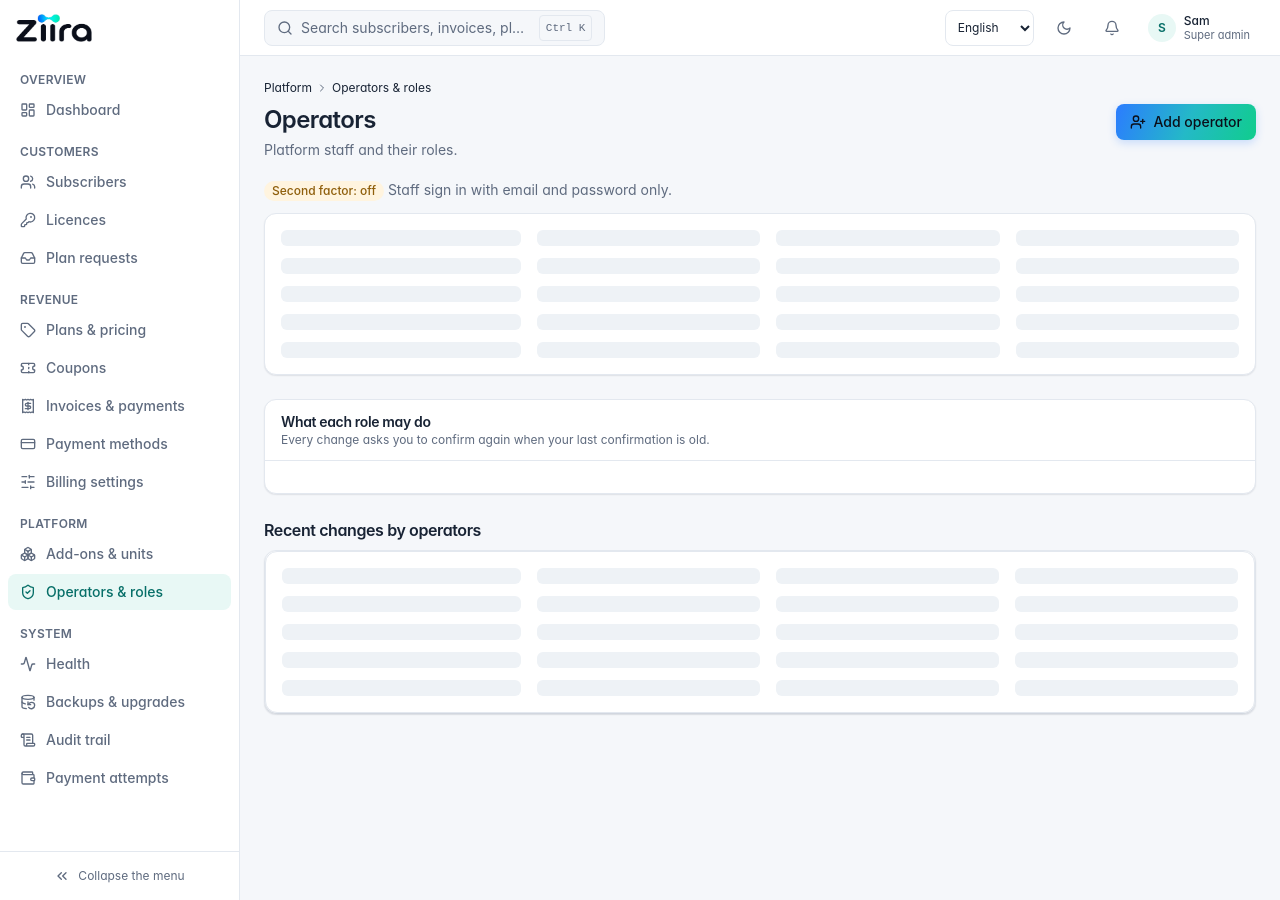
Test case: the operators page without a second factor › shows the temporary password of a new operator once, when none was typed
Click the button "Add operator".
click(1186, 122)  # box [1116, 104, 1256, 140]
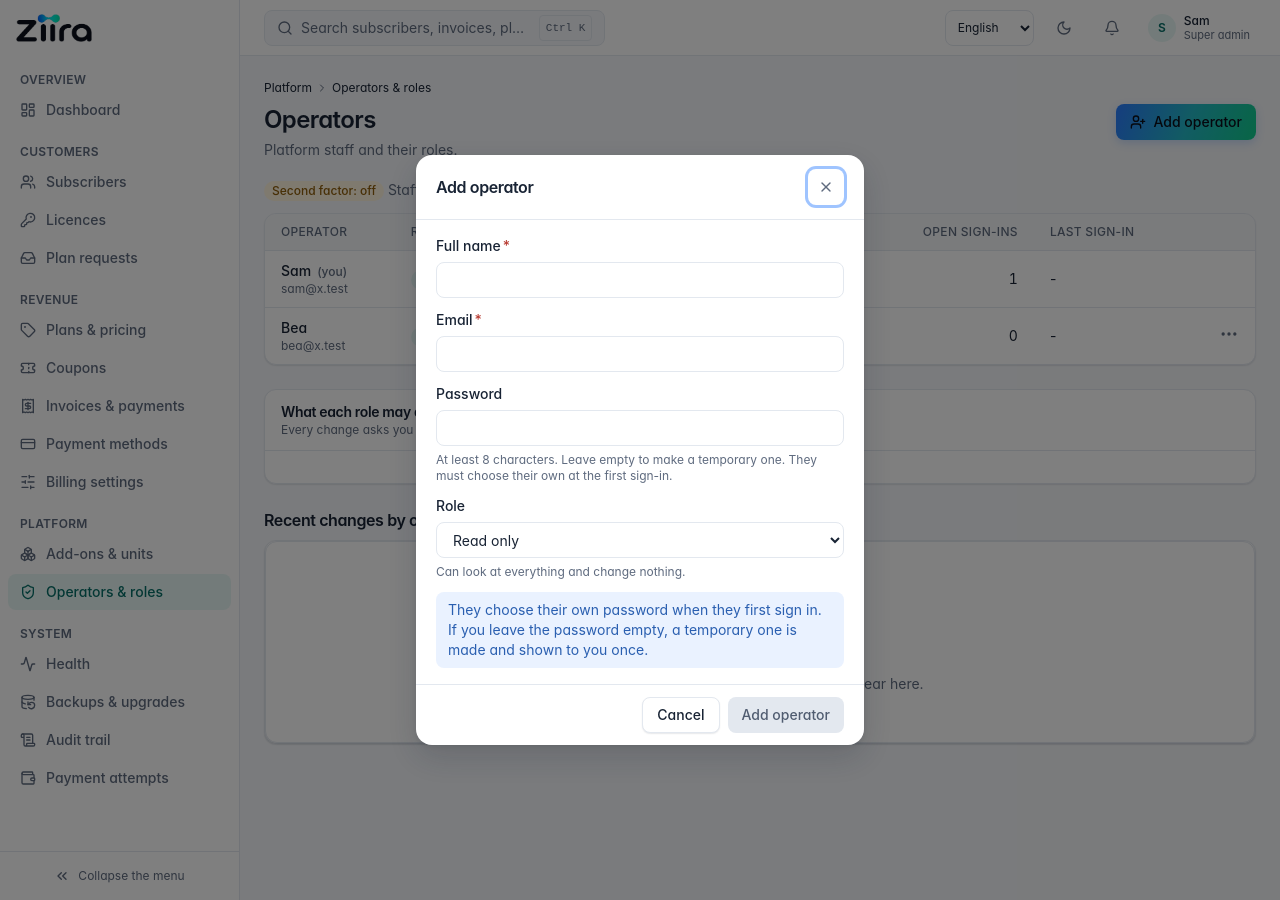
Type "Cy Dee" into the field labelled "Full name*".
click(640, 280); type("Cy Dee")  # box [436, 262, 844, 298]
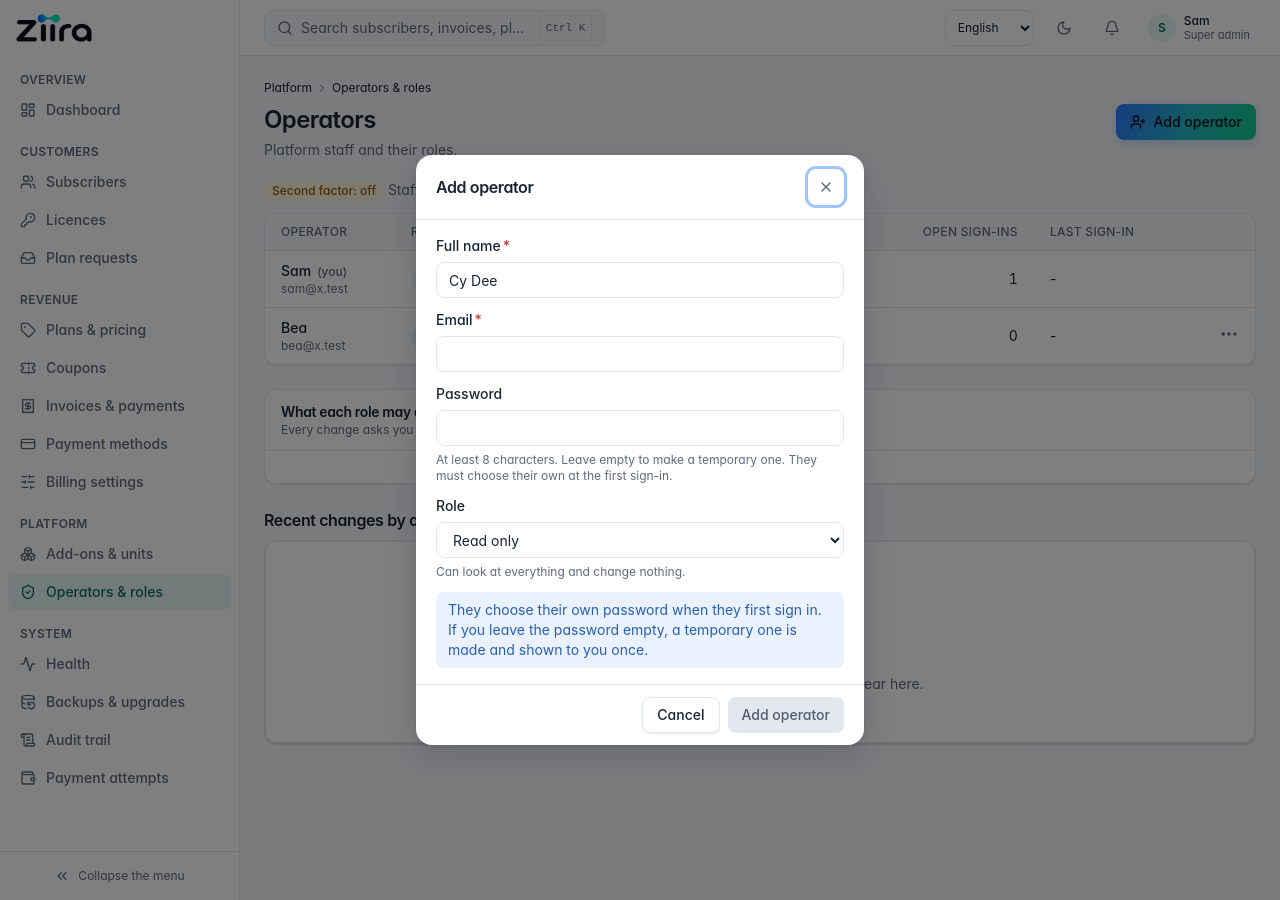
Type "cy@x.test" into the field labelled "Email*".
click(640, 354); type("cy@x.test")  # box [436, 336, 844, 372]
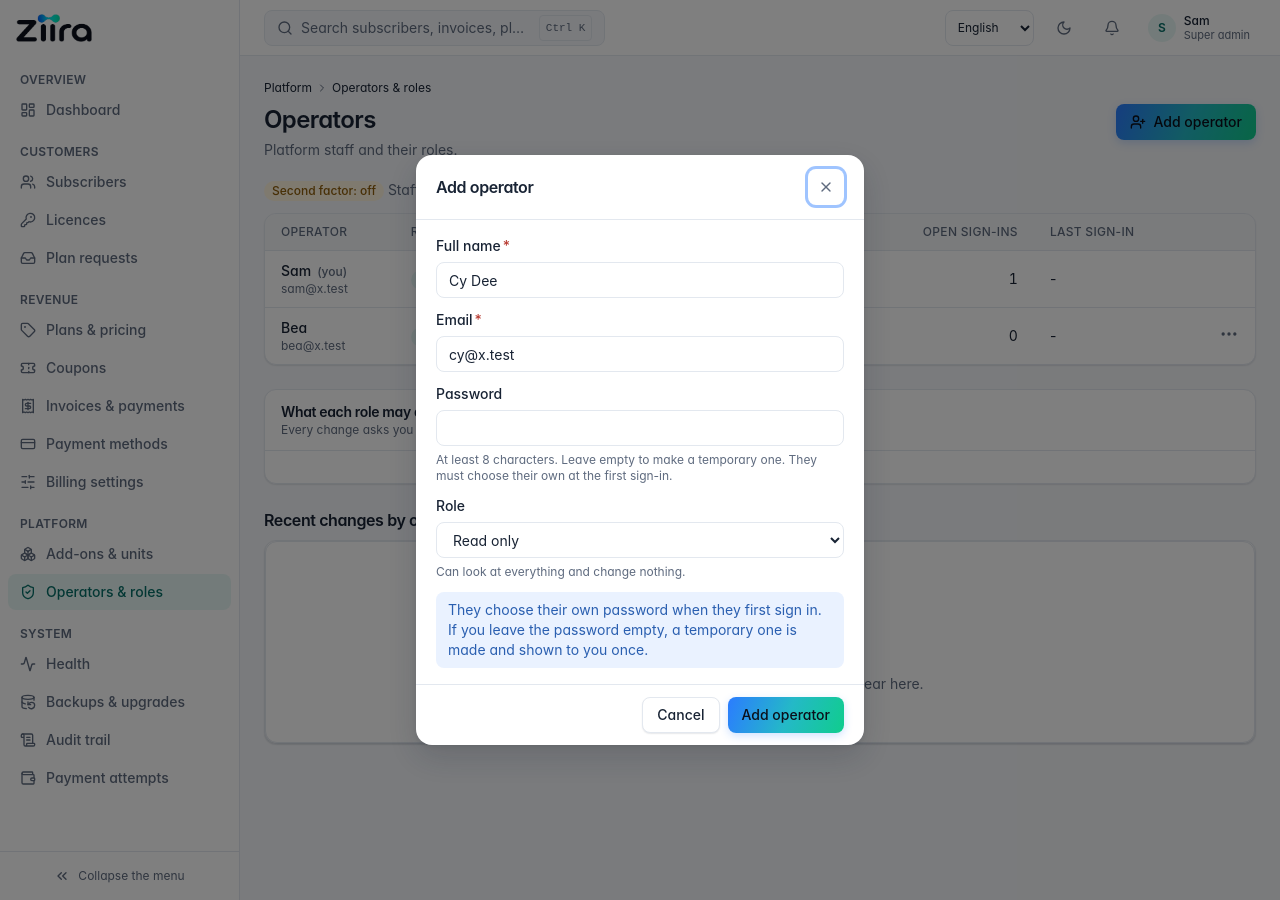
Click the button "Add operator".
click(786, 715)  # box [728, 697, 844, 733]
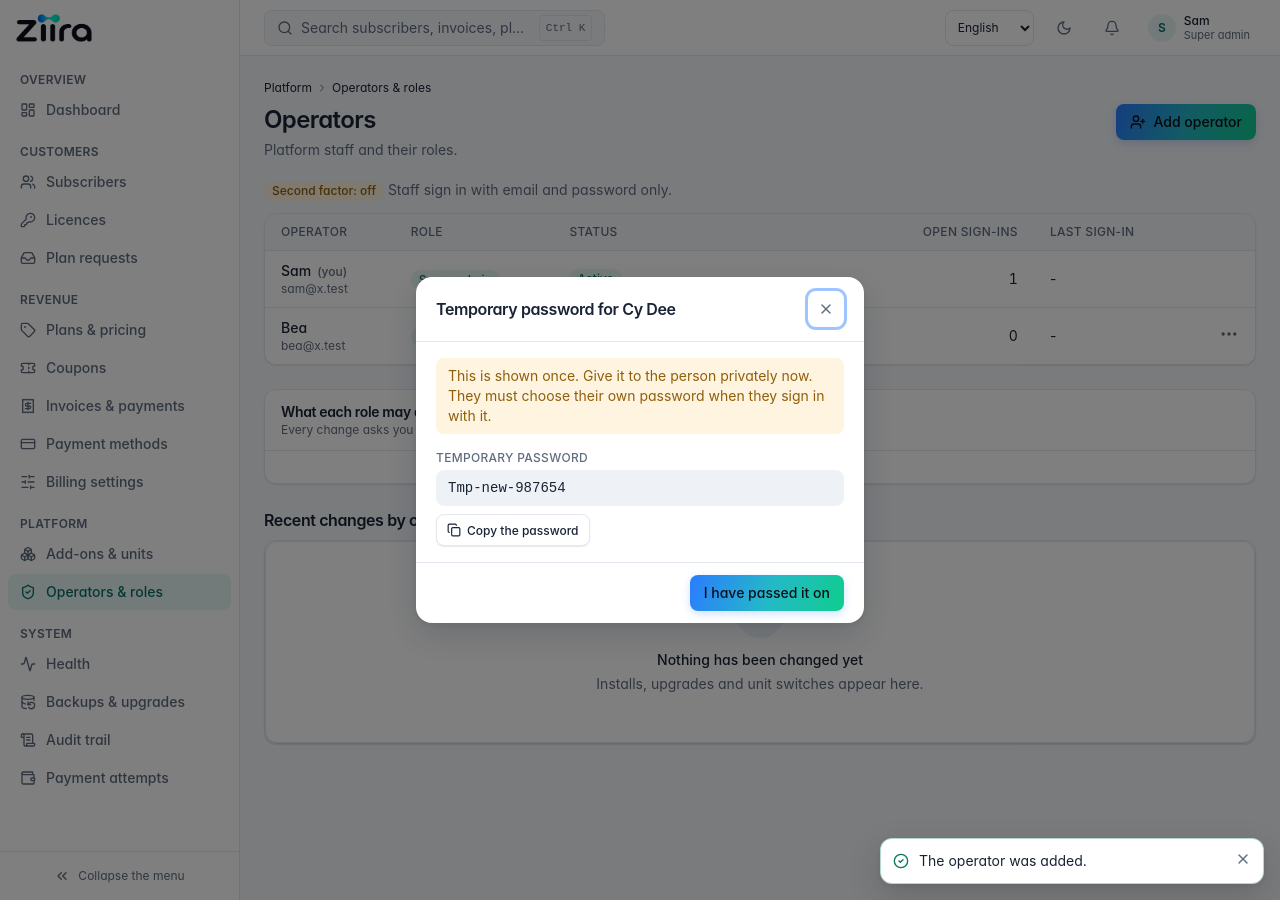
Expected: the text with test id "temp-password" reads "Tmp-new-987654", [448, 480, 566, 496]
